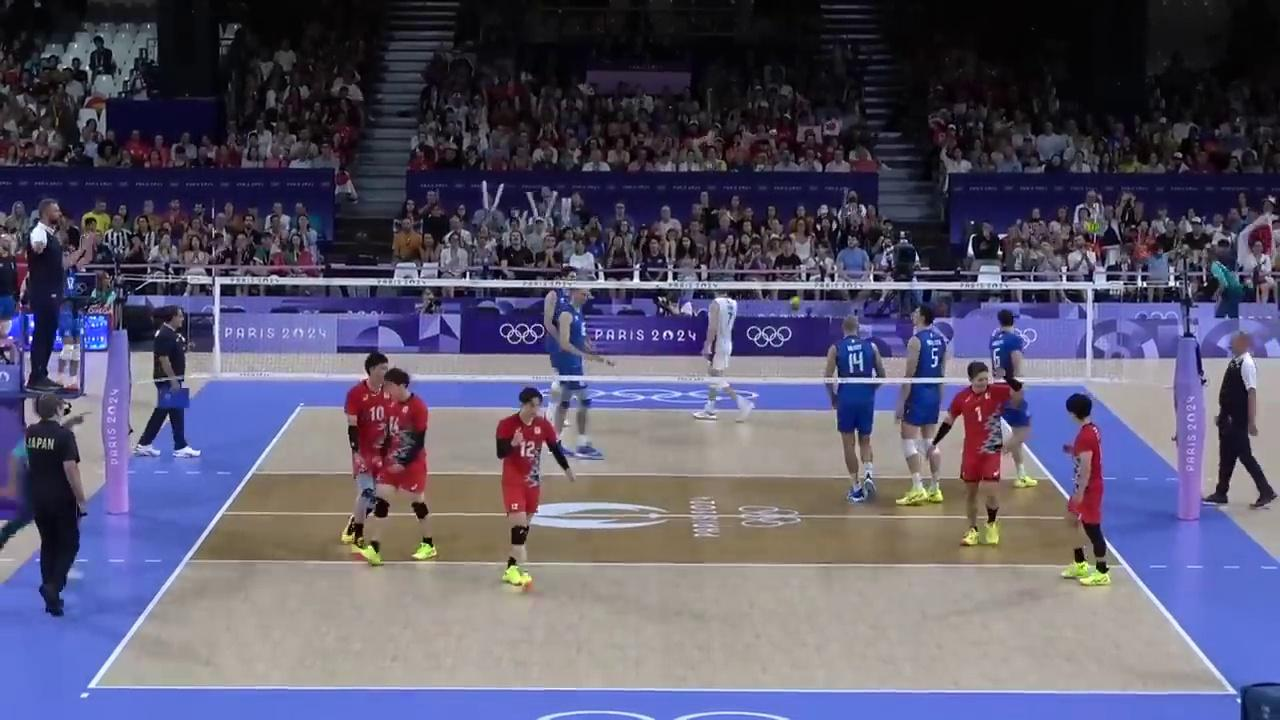ball: (787, 297, 799, 310)
